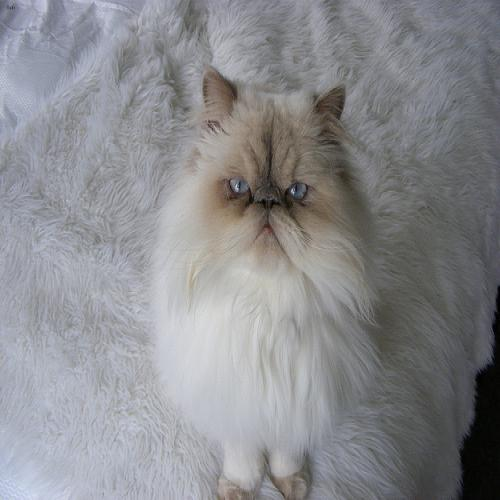persian: (192, 63, 360, 284)
